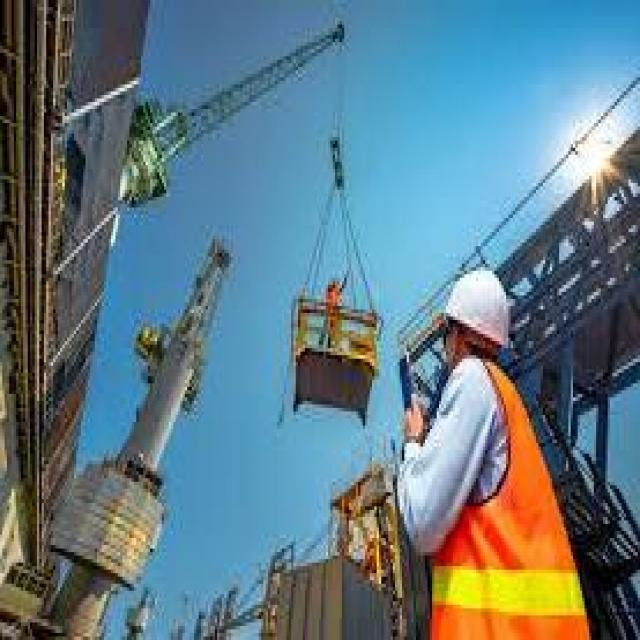Reflective-Jacket: (423, 362, 589, 637)
Safety-Helmet: (434, 253, 522, 355)
